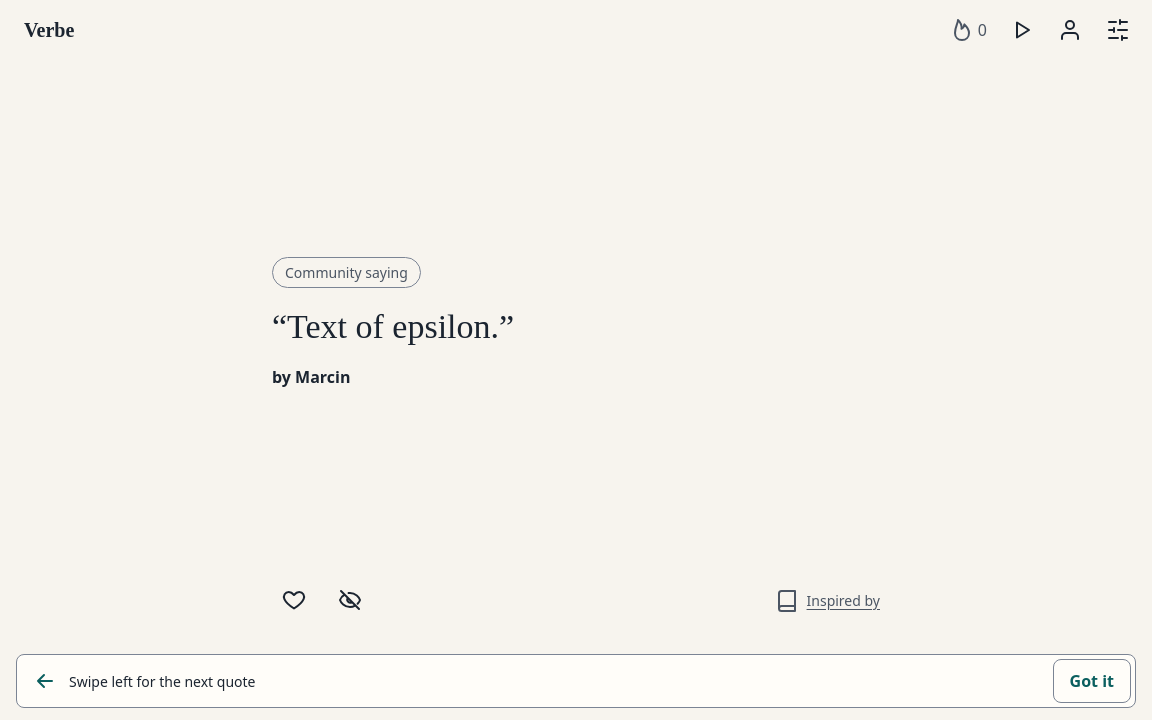
Test case: source filter › is offered only once the reader has quotes of their own
Click the 3rd button named "Settings". click: (1118,30)
box: 1096,8 -> 1140,52
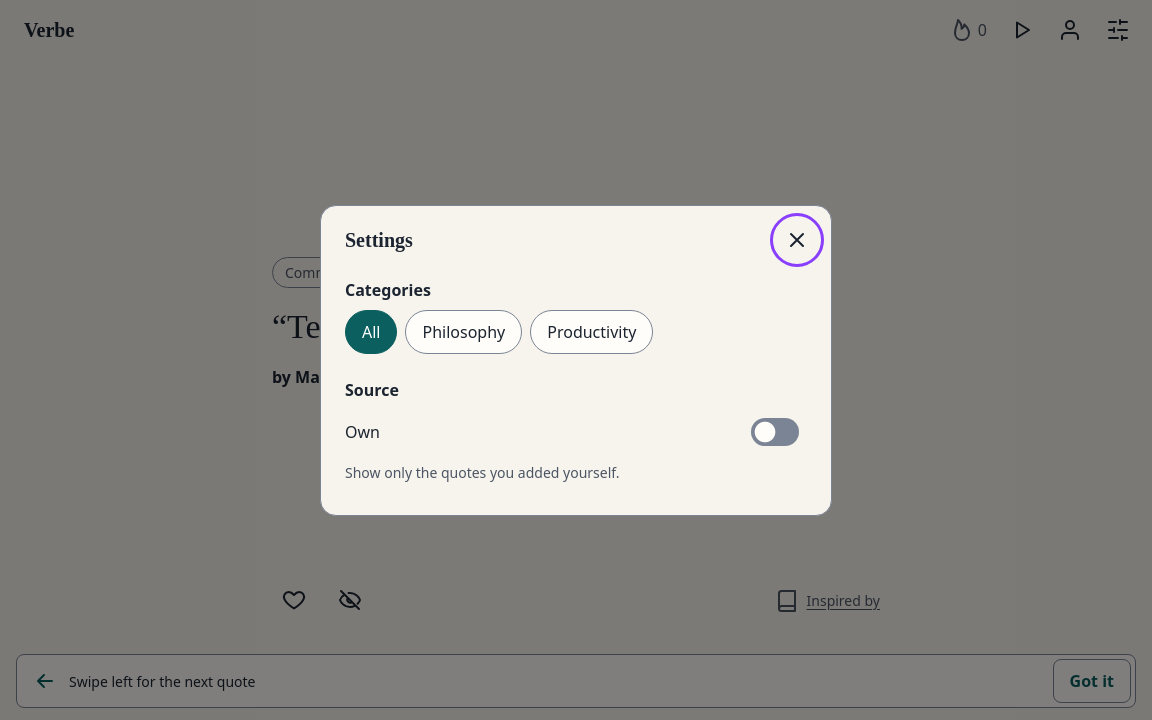
Check: the switch labelled "Own" is not checked, box 743,410 -> 807,454
